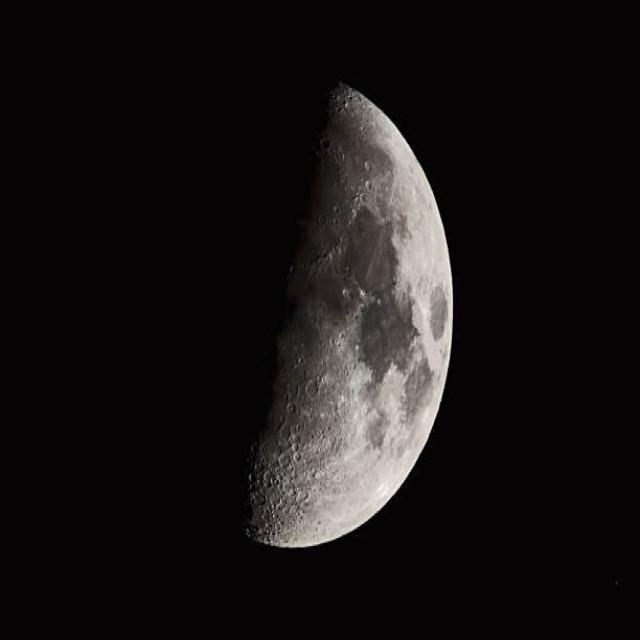moon: (116, 72, 453, 549)
